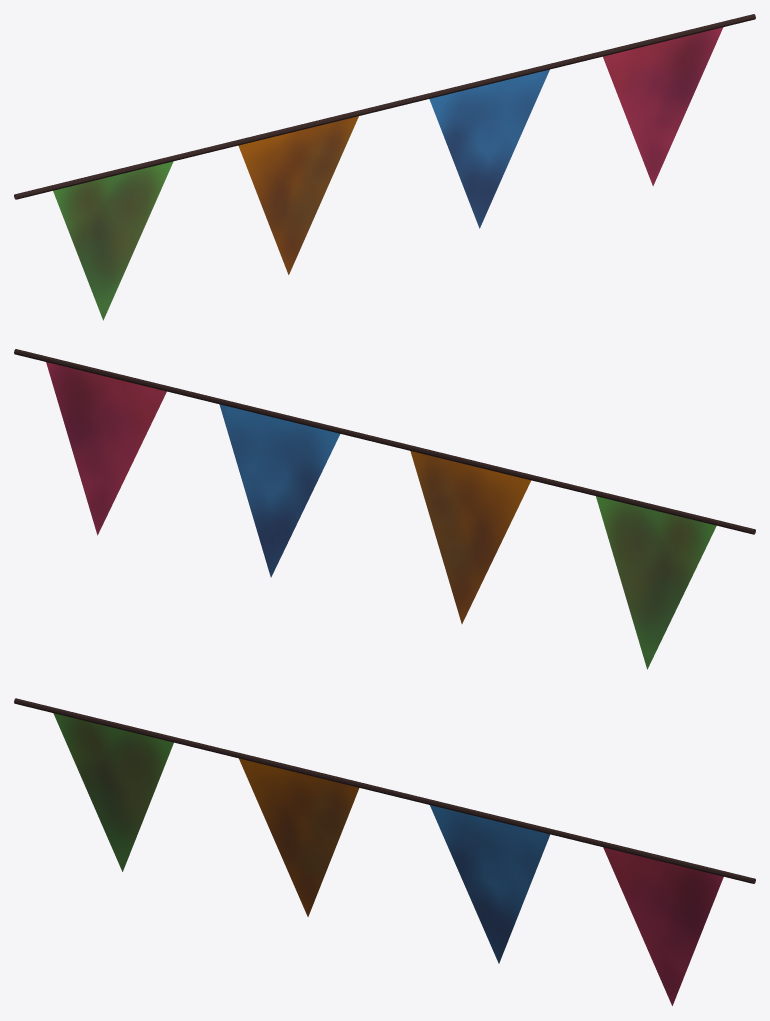
File: Prop_Center02_pennats.glb
3 views of the same model, one above another, from view 1: azimuth 30°, elevation 25°; view 2: azimuth 150°, elevation 25°; view 3: azimuth 330°, elevation 25° (orthographic).
Parts seen in each view (by area): view 1: Plane_C2_01, Plane_C2_02, Plane_C2_03, Plane_C2_04, Rope_Center02; view 2: Plane_C2_01, Plane_C2_04, Plane_C2_03, Plane_C2_02, Rope_Center02; view 3: Plane_C2_04, Plane_C2_01, Plane_C2_03, Plane_C2_02, Rope_Center02.
Boxes of the visible parts, box(x1,y1,x2,y2) form: Plane_C2_01: box(53, 161, 173, 320); Plane_C2_02: box(238, 116, 358, 274); Plane_C2_03: box(429, 69, 549, 228); Plane_C2_04: box(603, 27, 723, 186); Rope_Center02: box(14, 14, 755, 199); Plane_C2_01: box(596, 496, 716, 669); Plane_C2_04: box(46, 362, 166, 535); Plane_C2_03: box(219, 404, 339, 577); Plane_C2_02: box(410, 451, 531, 623); Rope_Center02: box(14, 349, 755, 534); Plane_C2_04: box(603, 847, 723, 1005); Plane_C2_01: box(53, 713, 173, 871); Plane_C2_03: box(430, 805, 550, 963); Plane_C2_02: box(239, 758, 359, 916); Rope_Center02: box(14, 698, 755, 883).
Size of the model in its own units: 1.5 by 0.3051 by 0.0391.
1 material, 1 textured.
